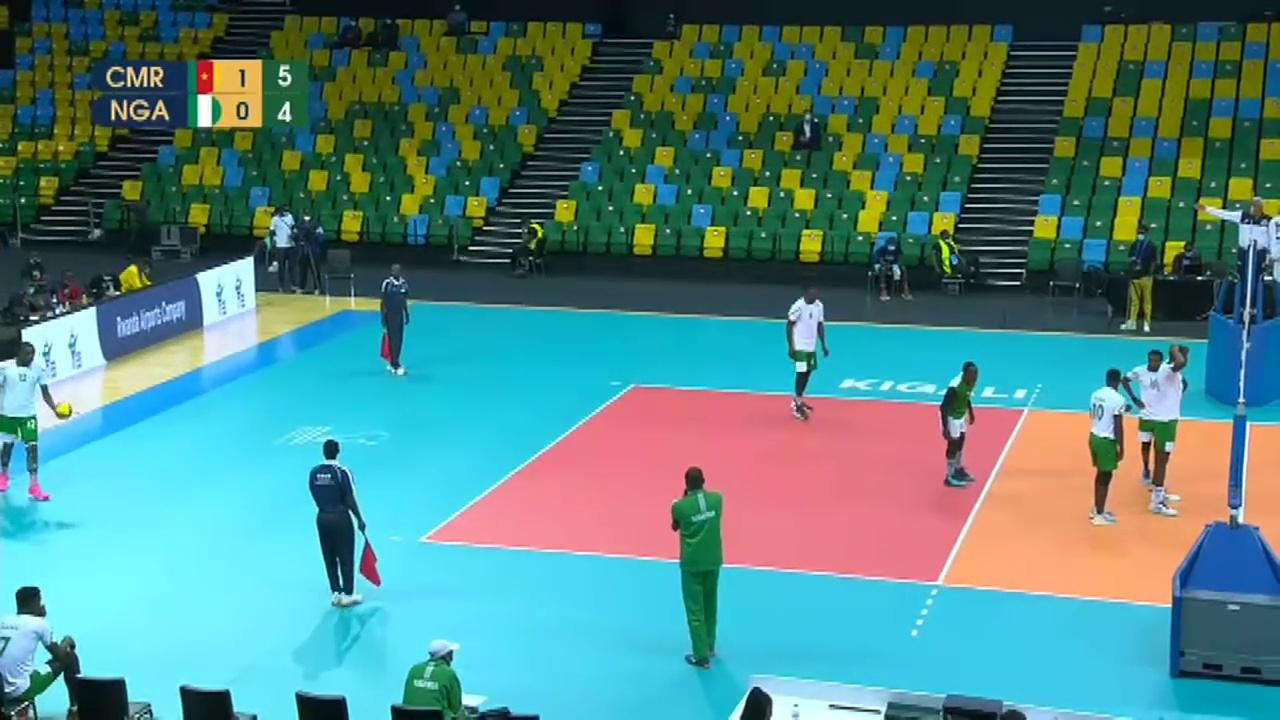player: (1, 341, 65, 503), (1152, 344, 1202, 521), (1085, 369, 1137, 521), (1124, 344, 1174, 484), (788, 289, 830, 419), (937, 363, 978, 483)
refree: (307, 444, 380, 602), (1221, 199, 1279, 304), (380, 261, 412, 374)
